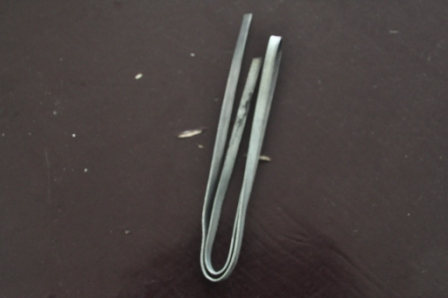METAL STRIP: (200, 11, 283, 285)
